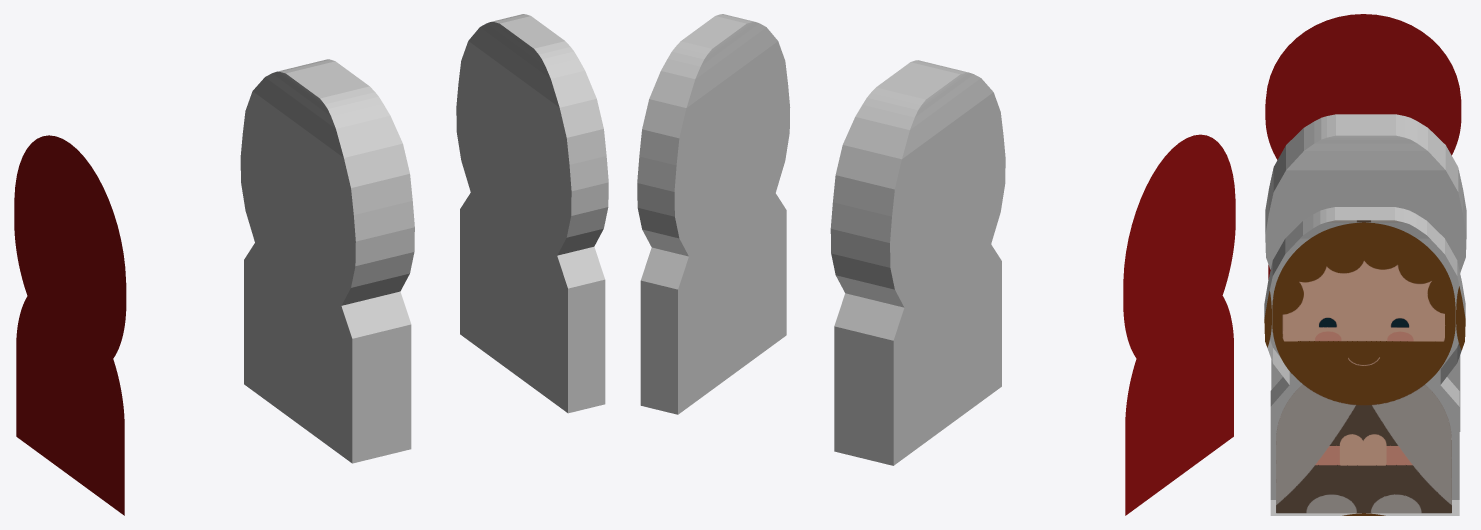
Rendered from testobjekt.obj.
The picture shows the model from 3 angles, left to right: view 1: azimuth 30°, elevation 25°; view 2: azimuth 150°, elevation 25°; view 3: azimuth 270°, elevation 25°; orthographic projection. The views are drawn at different scales.
Visible parts, largest first — view 1: Cube_Cube.001, Cube.001_Cube.002, Curve; view 2: Cube_Cube.001, Cube.001_Cube.002, Curve; view 3: Cube.001_Cube.002, Cube_Cube.001, Curve.
Part boxes in pixels (x1,y1,x2,y2): Cube_Cube.001: (240, 59, 414, 463); Cube.001_Cube.002: (456, 14, 608, 413); Curve: (14, 135, 126, 515); Cube_Cube.001: (830, 60, 1005, 465); Cube.001_Cube.002: (637, 14, 790, 414); Curve: (1123, 134, 1235, 515); Cube.001_Cube.002: (1264, 207, 1465, 515); Cube_Cube.001: (1265, 114, 1466, 431); Curve: (1265, 14, 1461, 279).
Size of the model in its own units: 4.58 by 3.09 by 1.91.
